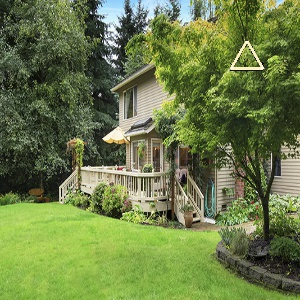triangle: (225, 39, 267, 73)
